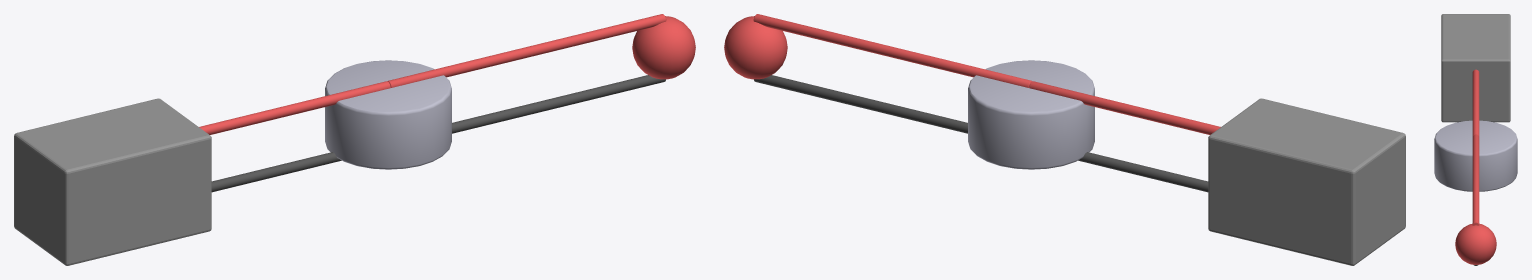
File: loi_ohm_resistance_v1.glb
The picture shows the model from 3 angles, left to right: view 1: azimuth 30°, elevation 25°; view 2: azimuth 150°, elevation 25°; view 3: azimuth 270°, elevation 25°; orthographic projection. The views are drawn at different scales.
Visible parts, largest first — view 1: power_source, potentiometer, wire_3, wire_2, led, wire_1; view 2: power_source, potentiometer, wire_3, wire_2, led, wire_1; view 3: power_source, potentiometer, led, wire_2, wire_1.
Part boxes in pixels (x1,y1,x2,y2): power_source: (14,98,211,265); potentiometer: (325,60,451,169); wire_3: (211,75,665,192); wire_2: (387,14,666,87); led: (632,16,695,79); wire_1: (199,81,390,134); power_source: (1208,98,1405,265); potentiometer: (968,60,1094,169); wire_3: (754,75,1208,192); wire_2: (753,14,1031,87); led: (724,16,787,79); wire_1: (1029,81,1220,134); power_source: (1441,14,1510,122); potentiometer: (1434,120,1517,191); led: (1455,223,1496,264); wire_2: (1472,134,1479,225); wire_1: (1472,69,1479,135).
Size of the model in its own units: 7.1 by 1 by 1.2.
